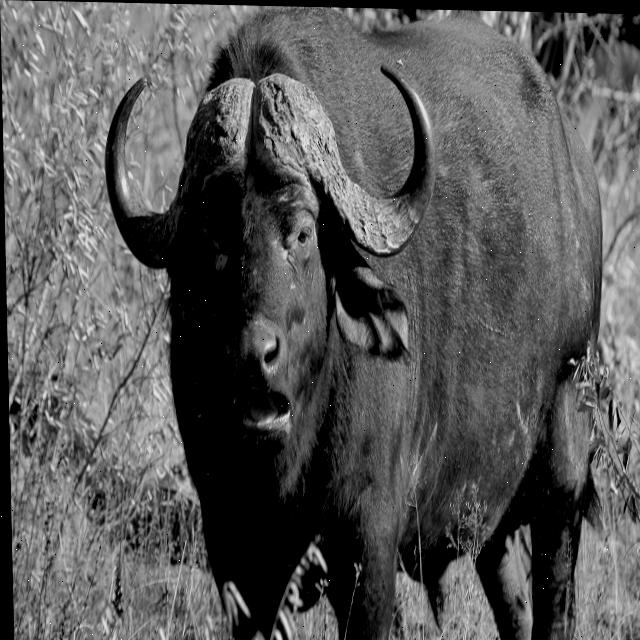Buffalo: (105, 12, 614, 640)
